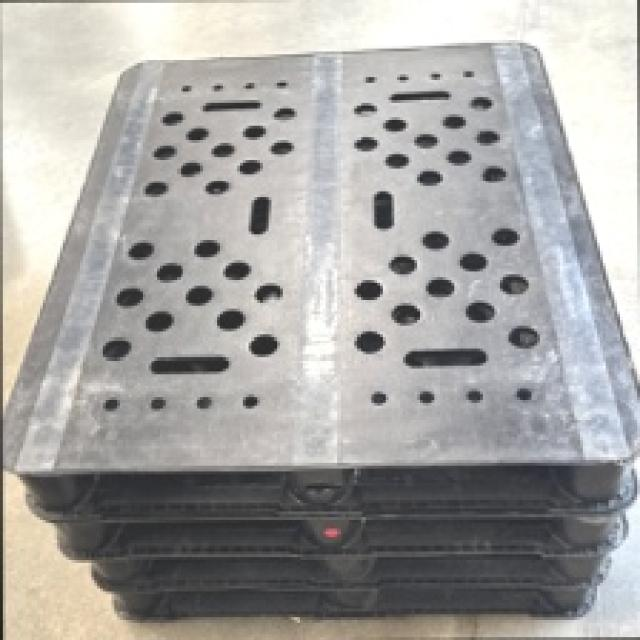igps: (0, 35, 640, 522), (14, 483, 640, 568), (81, 503, 637, 596), (106, 580, 605, 630)
